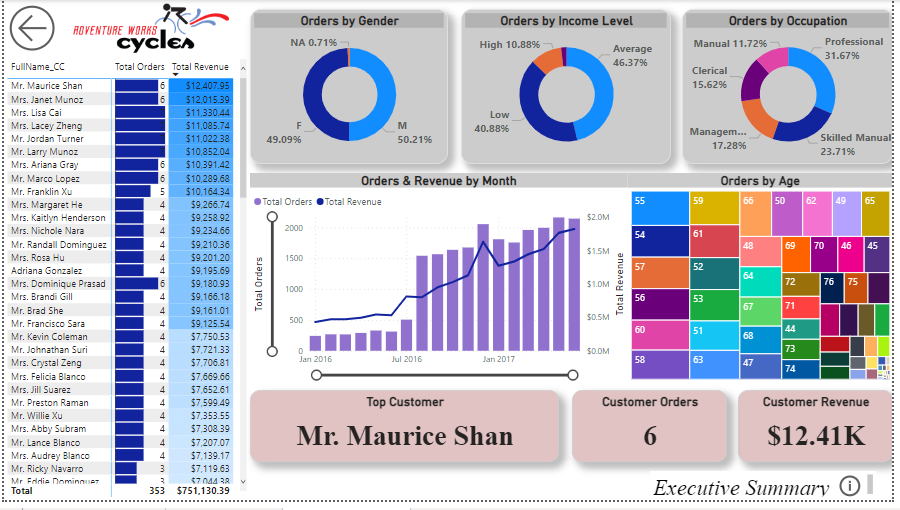

This screenshot's page, from the dashboard's own definition file:
{"tool":"powerbi","page":{"name":"Customer Detail","canvas":[1280,720],"ordinal":2},"visuals":[{"type":"pivotTable","fields":{"Values":["Key Measures.Total Orders","Key Measures.Total Revenue"],"Rows":["AW_Customer_Lookup.FullName_CC"]},"box":[0,80.6,354.4,640],"z":0},{"type":"donutChart","title":"Orders by Gender","fields":{"Y":["Key Measures.Total Orders"],"Category":["AW_Customer_Lookup.Gender"]},"box":[354.2,13,285.1,223.2],"z":1000},{"type":"donutChart","title":"Orders by Income Level","fields":{"Y":["Key Measures.Total Orders"],"Category":["AW_Customer_Lookup.IncomeLevel"]},"box":[658.1,13,302.4,223.2],"z":2000},{"type":"donutChart","title":"Orders by Occupation","fields":{"Y":["Key Measures.Total Orders"],"Category":["AW_Customer_Lookup.Occupation"]},"box":[976.3,13,303.8,223.2],"z":3000},{"type":"image","box":[72.2,0,282.2,80.6],"z":4000},{"type":"lineClusteredColumnComboChart","title":"Orders & Revenue by Month","fields":{"Y":["Key Measures.Total Orders"],"Category":["AW_Calendar_Lookup.Start of Month"],"Y2":["Key Measures.Total Revenue"]},"box":[354.4,248.6,544.3,302.4],"z":5000},{"type":"treemap","title":"Orders by Age","fields":{"Values":["Key Measures.Total Orders"],"Group":["AW_Customer_Lookup.Current Age"]},"box":[898.6,249.1,381.6,302.4],"z":6000},{"type":"card","title":"Top Customer","fields":{"Values":["Min(AW_Customer_Lookup.FullName_CC)"]},"box":[354.4,561,445.1,104.1],"z":7000},{"type":"card","title":"Customer Revenue","fields":{"Values":["Key Measures.Total Revenue"]},"box":[1056.6,561,223.4,104.1],"z":8000},{"type":"card","title":"Customer Orders","fields":{"Values":["Key Measures.Total Orders"]},"box":[818.1,561,223.4,104.1],"z":9000},{"type":"textbox","box":[930.6,678.6,325.9,42],"z":10000},{"type":"actionButton","box":[1197.7,680.3,82.3,40.3],"z":11000},{"type":"actionButton","box":[0,0,86.4,80.6],"z":12000}]}

Visuals, with their boxes in screenshot pixels (x1, y1, x2, y2), scaled from the page's 1280x720 canvas onto the 900x510 screenshot:
pivotTable - Key Measures.Total Orders x Key Measures.Total Revenue: l=0, t=57, r=249, b=509
"Orders by Gender" donutChart: l=249, t=9, r=450, b=167
"Orders by Income Level" donutChart: l=463, t=9, r=675, b=167
"Orders by Occupation" donutChart: l=686, t=9, r=899, b=167
image: l=51, t=0, r=249, b=57
"Orders & Revenue by Month" lineClusteredColumnComboChart: l=249, t=176, r=632, b=390
"Orders by Age" treemap: l=632, t=176, r=899, b=391
"Top Customer" card: l=249, t=397, r=562, b=471
"Customer Revenue" card: l=743, t=397, r=899, b=471
"Customer Orders" card: l=575, t=397, r=732, b=471
textbox: l=654, t=481, r=883, b=509
actionButton: l=842, t=482, r=899, b=509
actionButton: l=0, t=0, r=61, b=57
